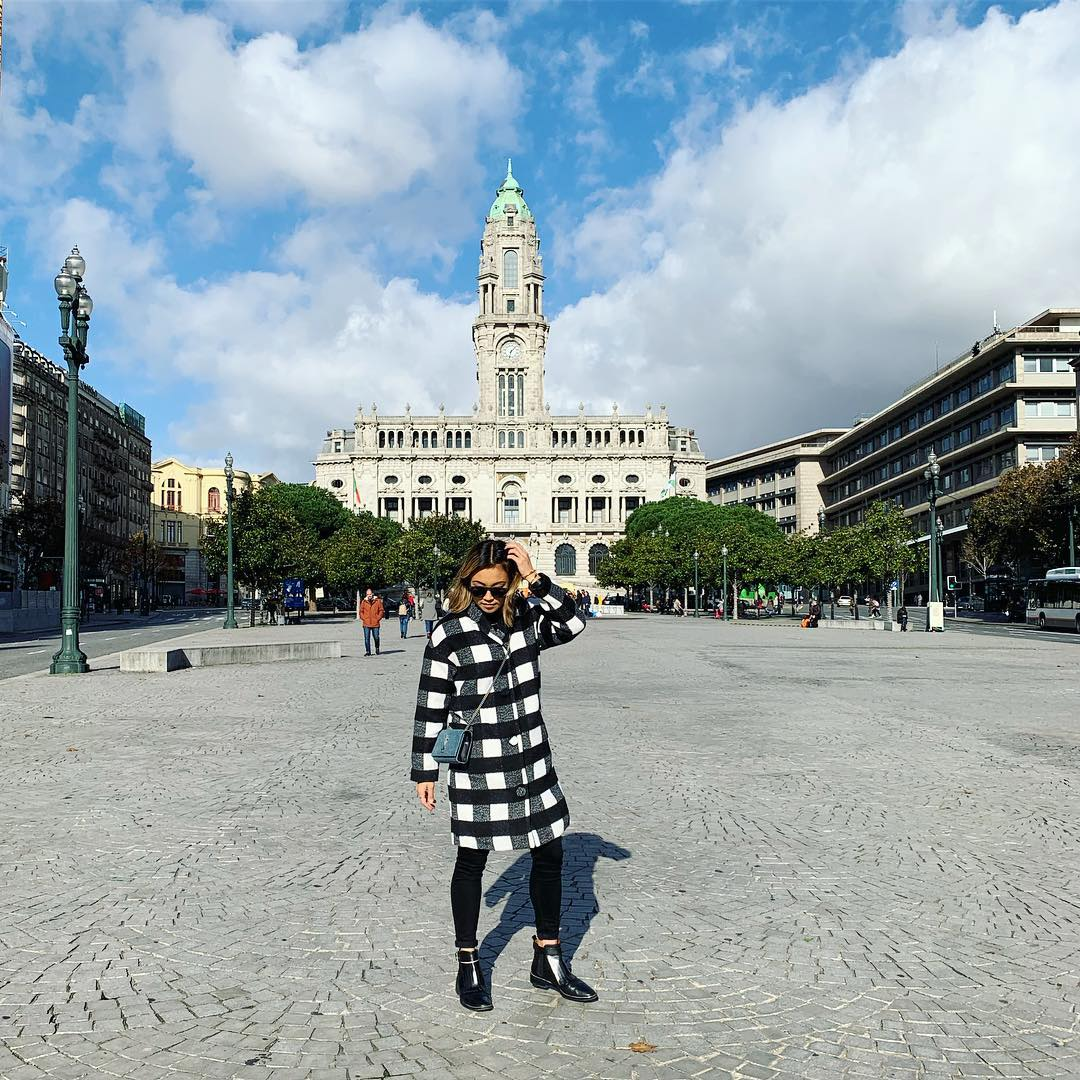camara: (309, 151, 711, 585)
